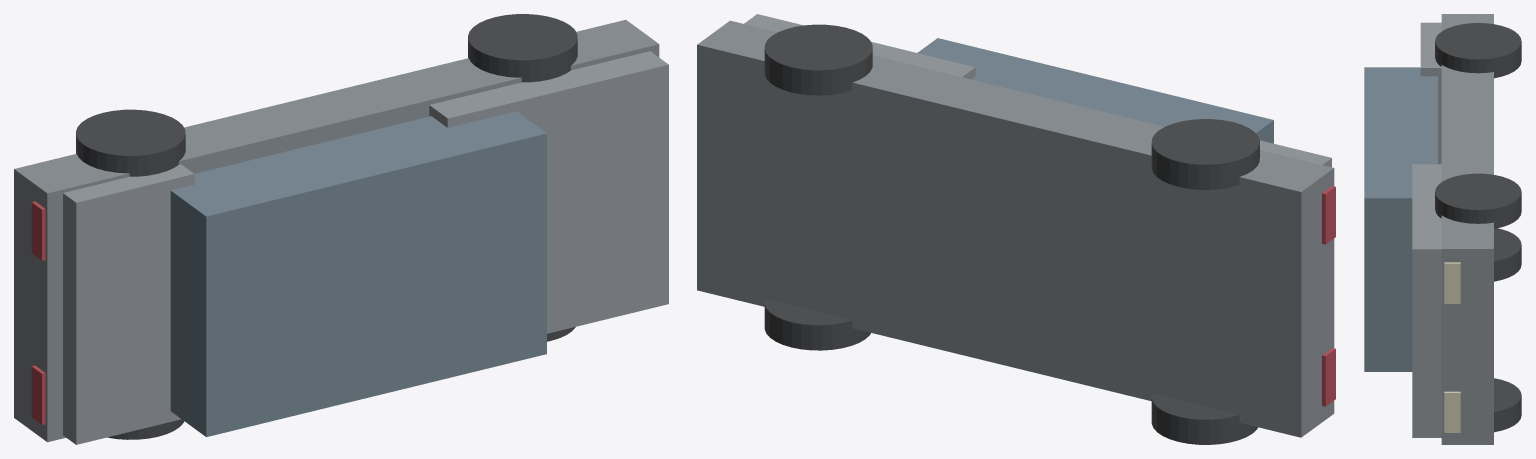
The model's file is VEH_Scandinavian_Sedan_Blockout.glb.
3 views of the same model, side by side, from view 1: azimuth 30°, elevation 25°; view 2: azimuth 150°, elevation 25°; view 3: azimuth 270°, elevation 25° (orthographic). The views are drawn at different scales.
Visible parts, largest first — view 1: cabin, bonnet, chassis, boot, wheel_1.5_0.96, wheel_-1.55_0.96, taillight_-0.61, taillight_0.61, wheel_-1.55_-0.96; view 2: chassis, cabin, wheel_1.5_0.96, wheel_-1.55_0.96, wheel_1.5_-0.96, wheel_-1.55_-0.96, bonnet, taillight_-0.61, taillight_0.61, boot; view 3: cabin, chassis, bonnet, wheel_1.5_0.96, wheel_-1.55_0.96, boot, wheel_1.5_-0.96, wheel_-1.55_-0.96, headlight_-0.61, headlight_0.61.
Boxes of the visible parts, box(x1,y1,x2,y2) form: cabin: box(170, 111, 546, 436); bonnet: box(429, 51, 668, 333); chassis: box(14, 19, 659, 442); boot: box(63, 164, 194, 444); wheel_1.5_0.96: box(468, 14, 577, 82); wheel_-1.55_0.96: box(76, 109, 185, 176); taillight_-0.61: box(31, 365, 45, 424); taillight_0.61: box(31, 201, 45, 260); wheel_-1.55_-0.96: box(107, 419, 184, 439); chassis: box(697, 20, 1334, 437); cabin: box(917, 38, 1273, 143); wheel_1.5_0.96: box(764, 24, 872, 95); wheel_-1.55_0.96: box(1151, 119, 1259, 189); wheel_1.5_-0.96: box(764, 299, 870, 350); wheel_-1.55_-0.96: box(1151, 393, 1257, 444); bonnet: box(744, 14, 975, 79); taillight_-0.61: box(1322, 348, 1335, 406); taillight_0.61: box(1322, 186, 1335, 244); boot: box(1260, 140, 1331, 167); cabin: box(1364, 67, 1437, 371); chassis: box(1441, 14, 1493, 444); bonnet: box(1412, 164, 1441, 437); wheel_1.5_0.96: box(1435, 173, 1521, 228); wheel_-1.55_0.96: box(1435, 23, 1521, 78); boot: box(1420, 22, 1441, 164); wheel_1.5_-0.96: box(1494, 378, 1521, 432); wheel_-1.55_-0.96: box(1494, 228, 1521, 281); headlight_-0.61: box(1444, 391, 1460, 432); headlight_0.61: box(1444, 262, 1460, 303).
Bounding box in the file's own units: 4.82 × 2.11 × 1.35.
